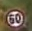limite 60: (4, 8, 26, 28)
